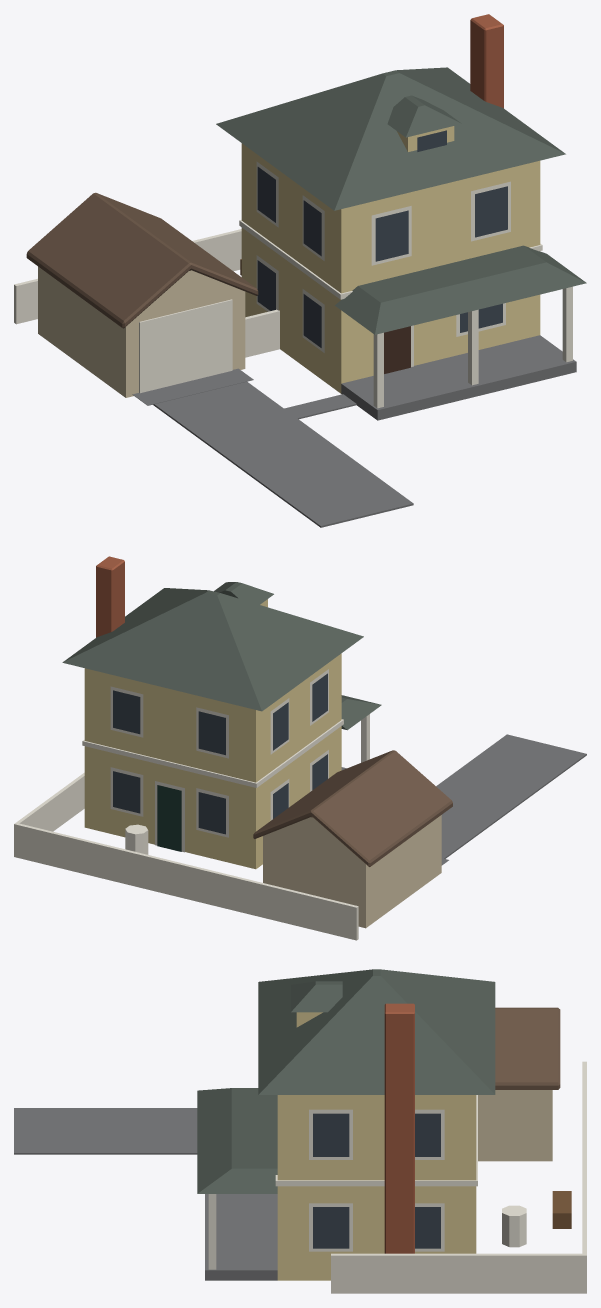
File: house_d.glb
3 views of the same model, one above another, from view 1: azimuth 30°, elevation 25°; view 2: azimuth 150°, elevation 25°; view 3: azimuth 270°, elevation 25° (orthographic). The views are drawn at different scales.
Parts seen in each view (by area): view 1: house_d; view 2: house_d; view 3: house_d.
Part boxes in pixels (bbox=[...]): house_d: bbox=[14, 14, 586, 527]; house_d: bbox=[14, 556, 586, 940]; house_d: bbox=[14, 969, 586, 1293].
Size of the model in its own units: 12.05 by 8 by 15.
